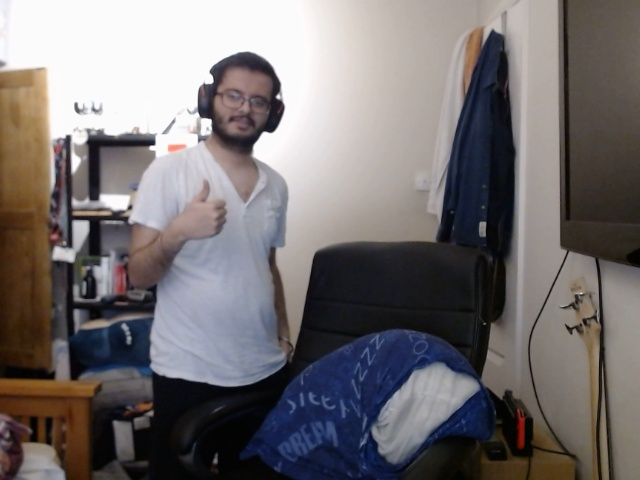Thumbs up: (176, 176, 229, 254)
